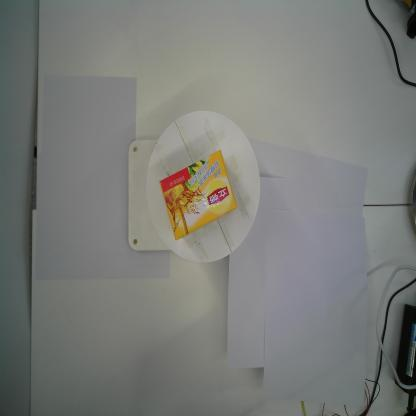Instant Drink: (158, 146, 236, 243)
